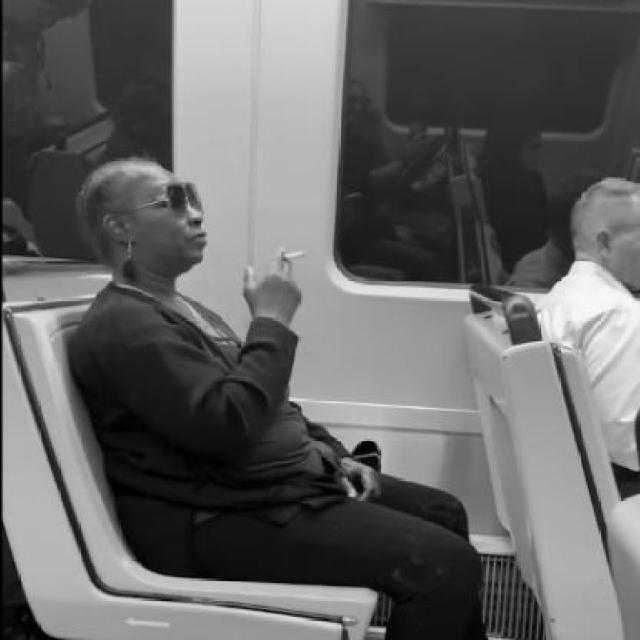smoke: (240, 233, 318, 304)
